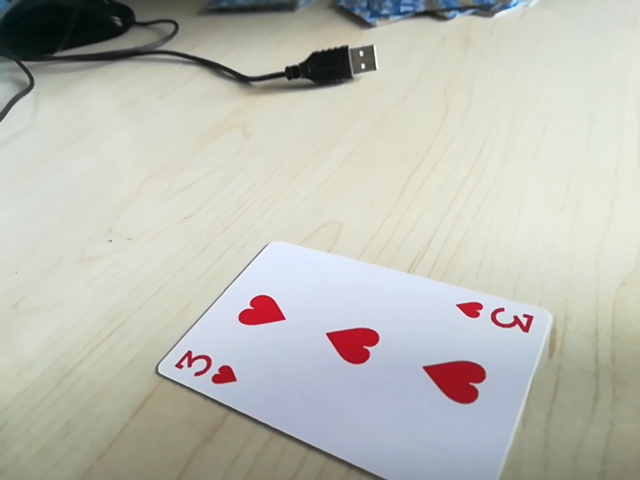hx 3: (456, 298, 544, 339), (165, 347, 239, 391)
